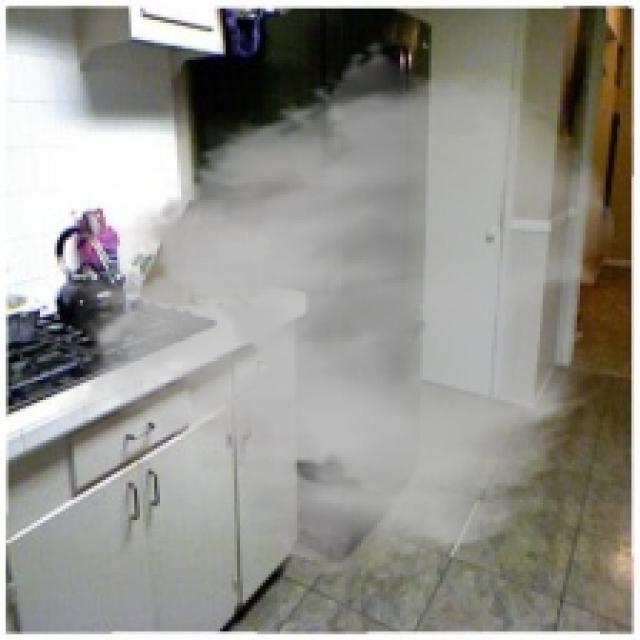smoke: (54, 40, 620, 586)
